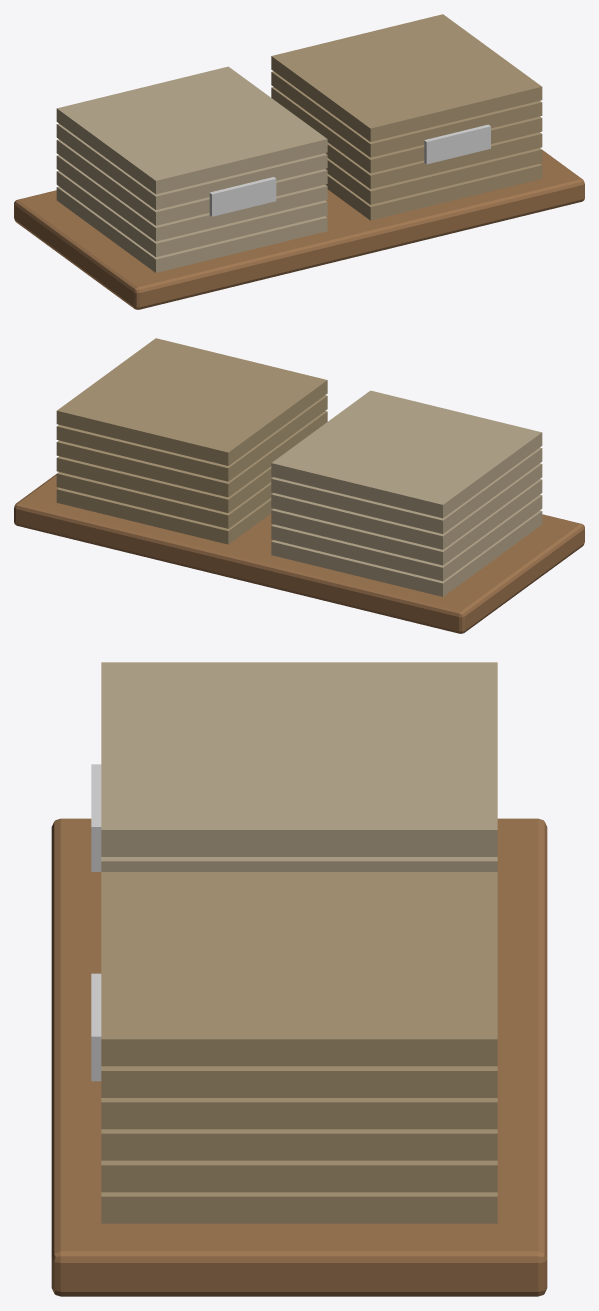
File: m_tiles.glb
3 views of the same model, one above another, from view 1: azimuth 30°, elevation 25°; view 2: azimuth 150°, elevation 25°; view 3: azimuth 270°, elevation 25° (orthographic). The views are drawn at different scales.
Parts seen in each view (by area): view 1: m_tiles; view 2: m_tiles; view 3: m_tiles.
Boxes of the visible parts, x1,y1,x2,y2 form: m_tiles: (14,14,584,309); m_tiles: (14,338,584,633); m_tiles: (51,662,547,1296).
Bounding box in the file's own units: 0.42 × 0.102 × 0.2.
